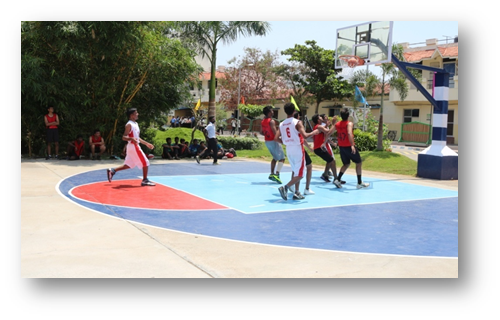ball: (347, 55, 358, 69)
basket: (339, 52, 363, 84)
player: (270, 104, 313, 201), (107, 106, 151, 189), (334, 108, 361, 191), (309, 113, 336, 184), (260, 105, 282, 183)
